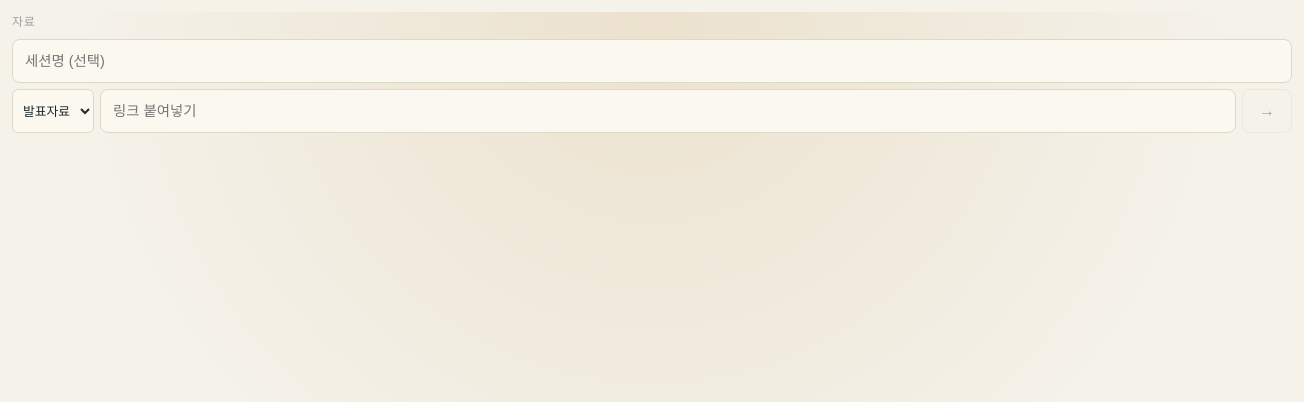
Test: EventMaterials › attaches a link and refreshes the list
Select "다시보기" in the dropdown named "자료 종류" at (53, 111), box [12, 89, 94, 133]
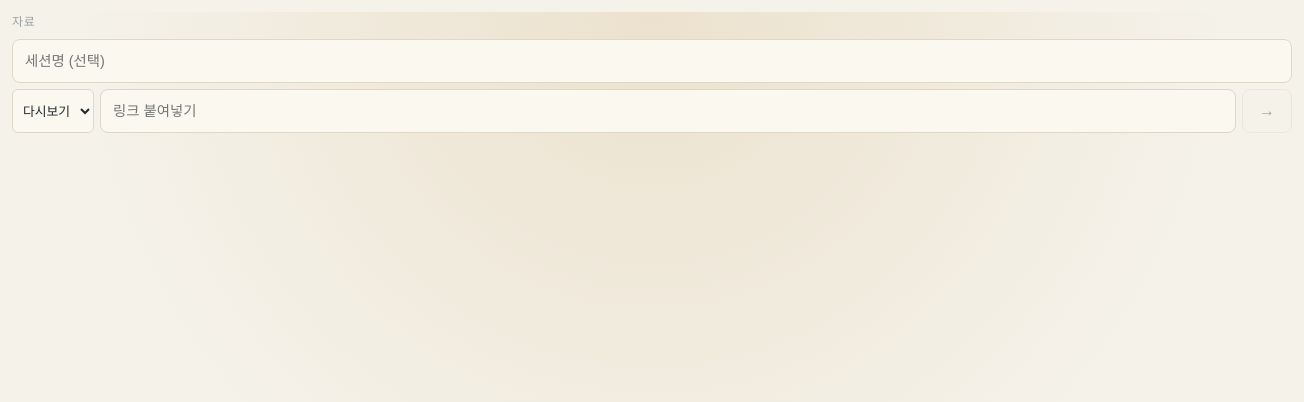
Type "키노트" into the field labelled "세션명" at (652, 61), box [12, 39, 1292, 83]
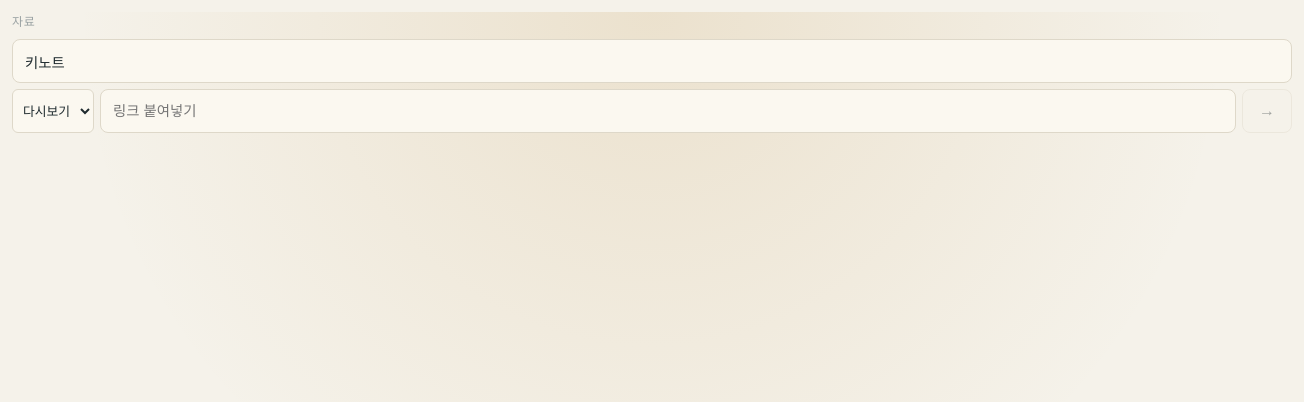
Type "https://youtu.be/x" into the field named "자료 링크 입력" at (668, 111), box [100, 89, 1236, 133]
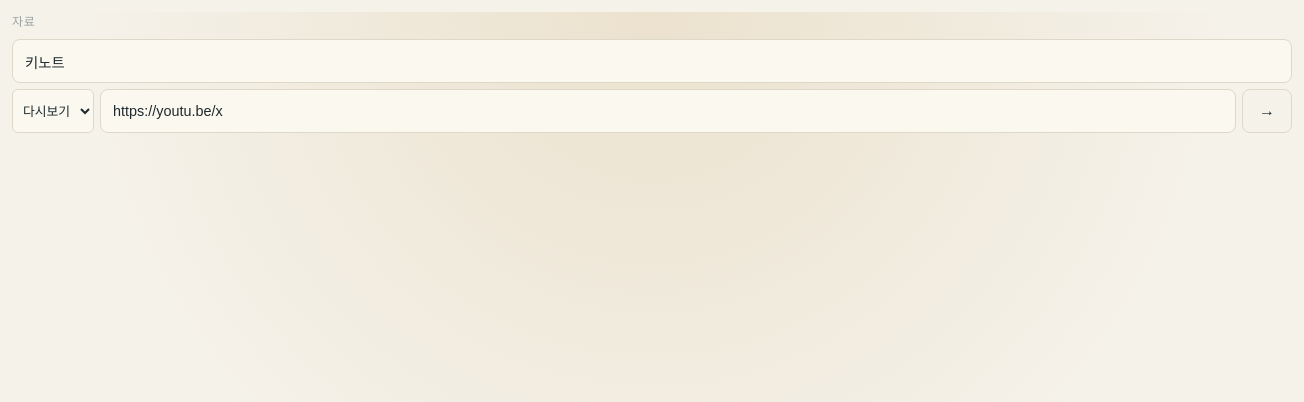
Click the button named "자료 붙이기 제출" at (1267, 111), box [1242, 89, 1292, 133]
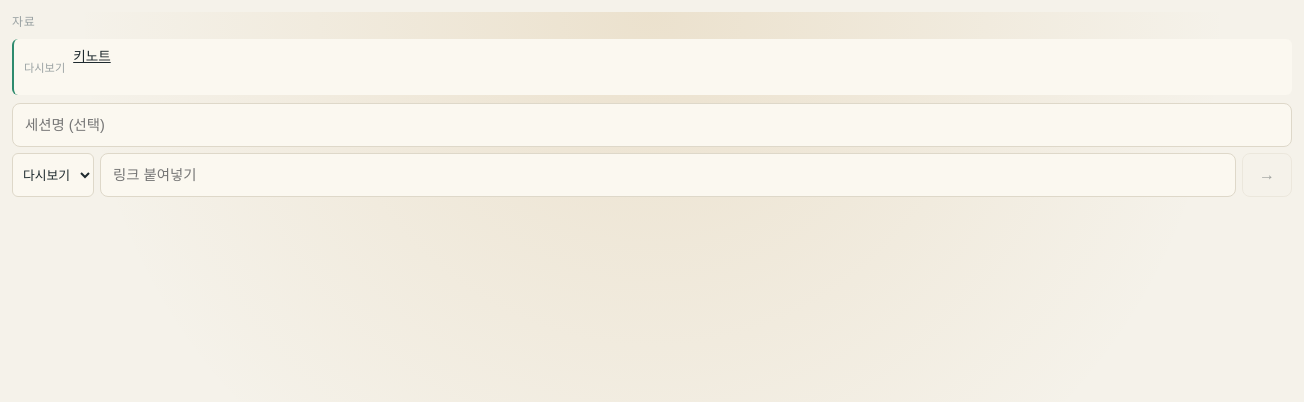
Expected: the link "키노트" is shown, [73, 46, 111, 65]
